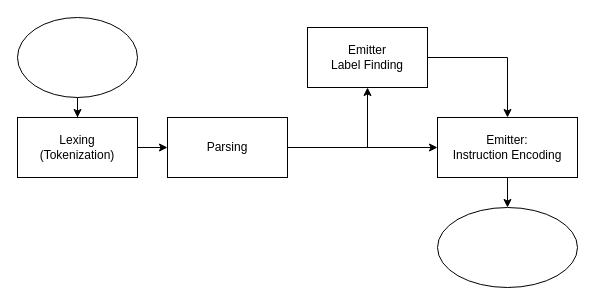
Image size: 595x305. Some labels were removed from this diagram. Each missing label, with the centre of its shape:
"Assembly Program: input.s" belongs at point (77, 57).
"Machine Code (hex): output.hex" belongs at point (507, 247).
